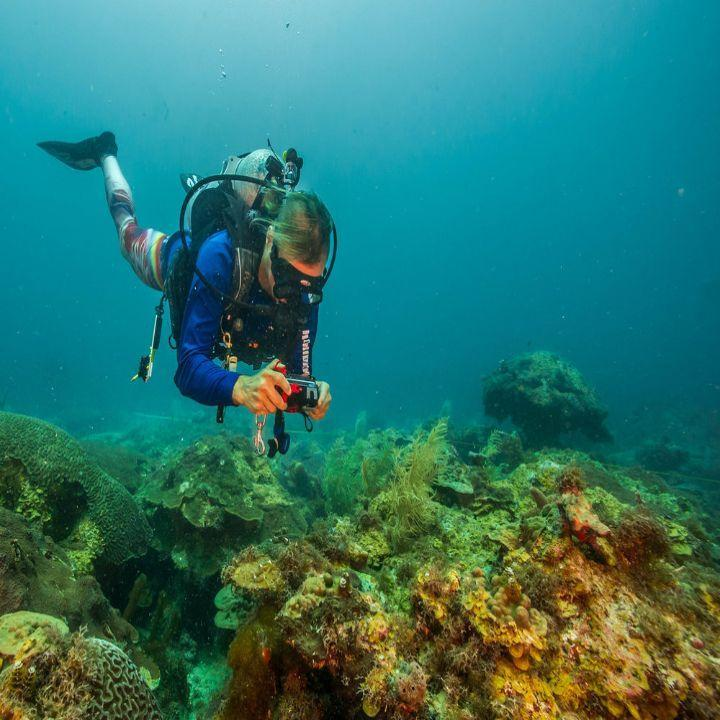Healthy Coral: (17, 419, 680, 719)
